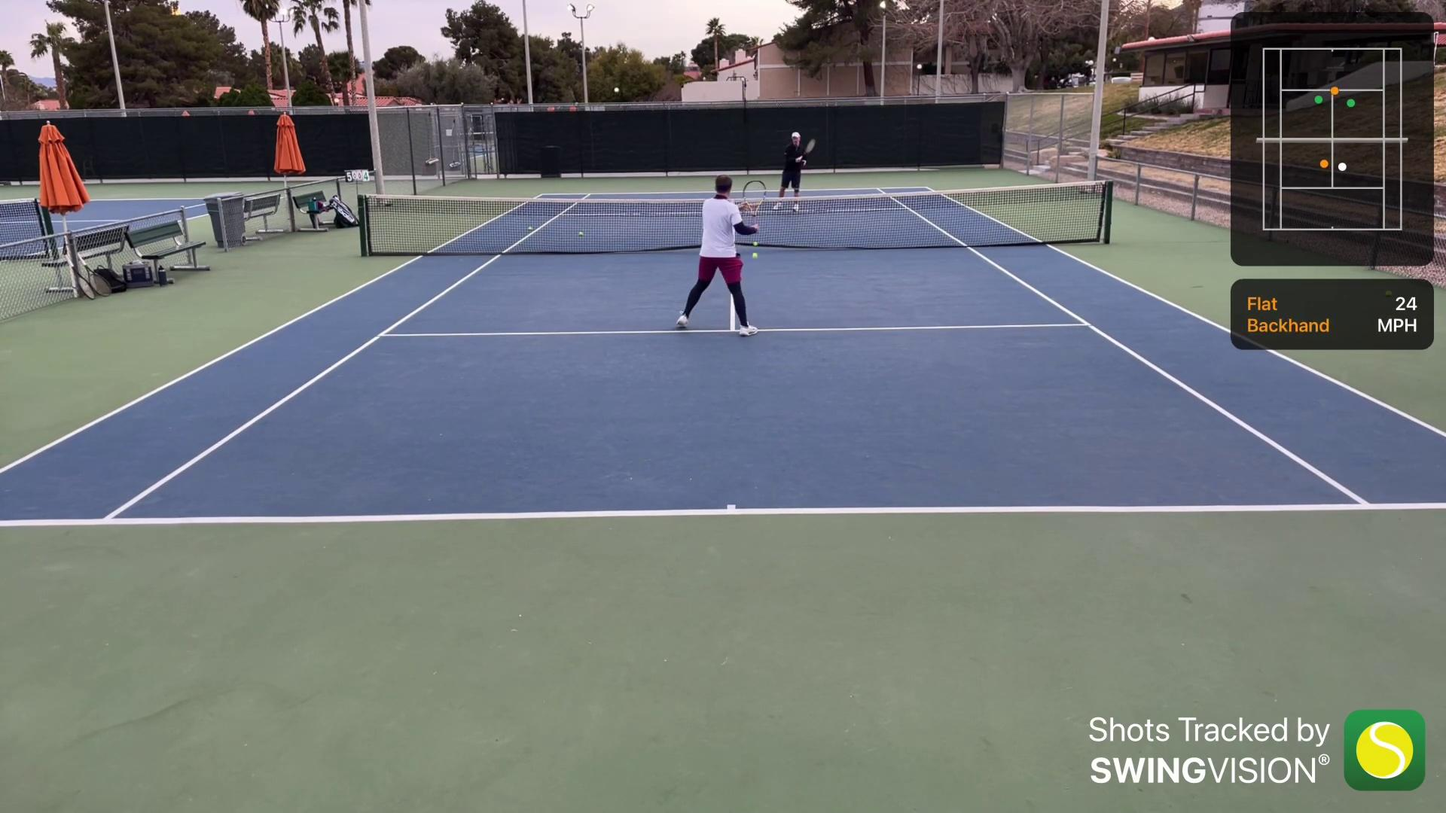ball: (752, 252, 758, 260), (526, 225, 533, 231), (752, 241, 758, 247), (578, 230, 584, 236)
